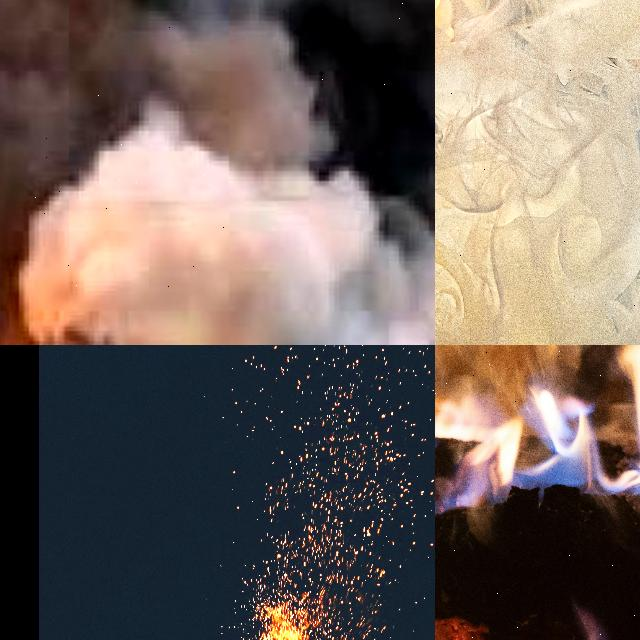fire: (435, 488, 640, 640)
smoke: (0, 0, 435, 261), (435, 0, 640, 345), (435, 345, 598, 410)
